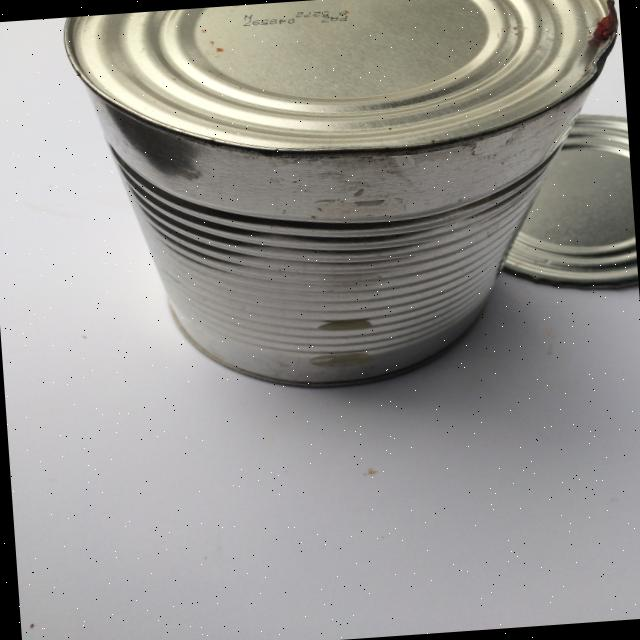metal: (61, 0, 640, 404)
